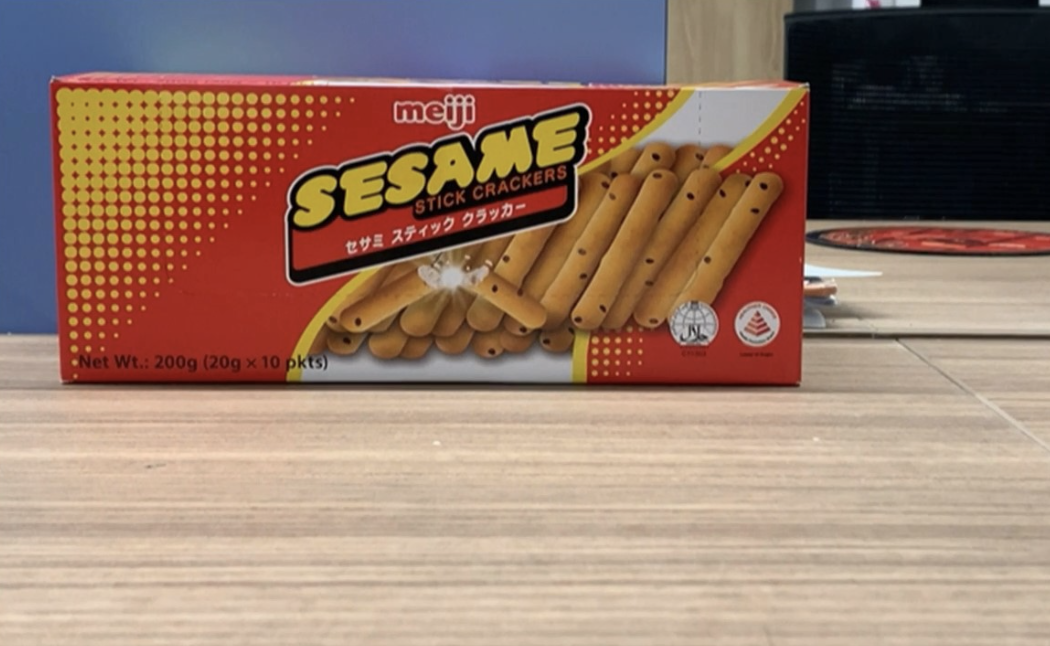crackers_150g: (75, 92, 790, 385)
